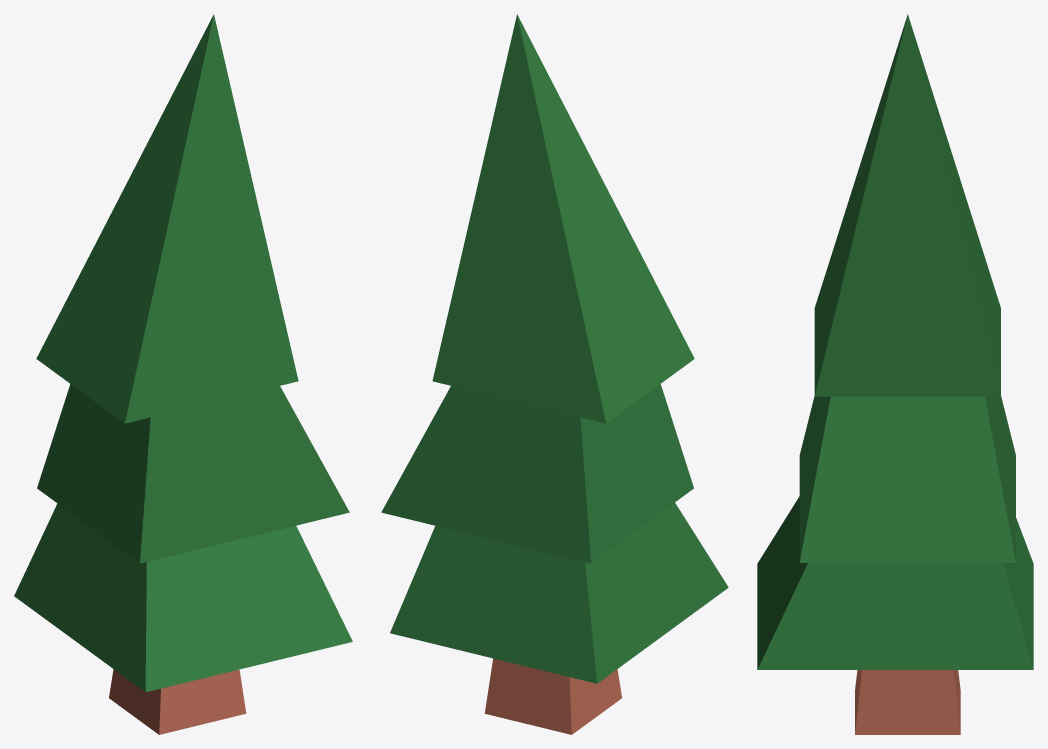
File: tree_pineSmallC.glb
3 renders of one model, left to right at view 1: azimuth 30°, elevation 25°; view 2: azimuth 150°, elevation 25°; view 3: azimuth 270°, elevation 25°, orthographic. The views are drawn at different scales.
Visible parts, largest first — view 1: tree_pineSmallC; view 2: tree_pineSmallC; view 3: tree_pineSmallC.
Part boxes in pixels (x1=…): tree_pineSmallC: x1=14, y1=14, x2=352, y2=734; tree_pineSmallC: x1=381, y1=14, x2=728, y2=734; tree_pineSmallC: x1=757, y1=14, x2=1033, y2=734.
Bounding box in the file's own units: 0.3863 × 1.12 × 0.3919.
